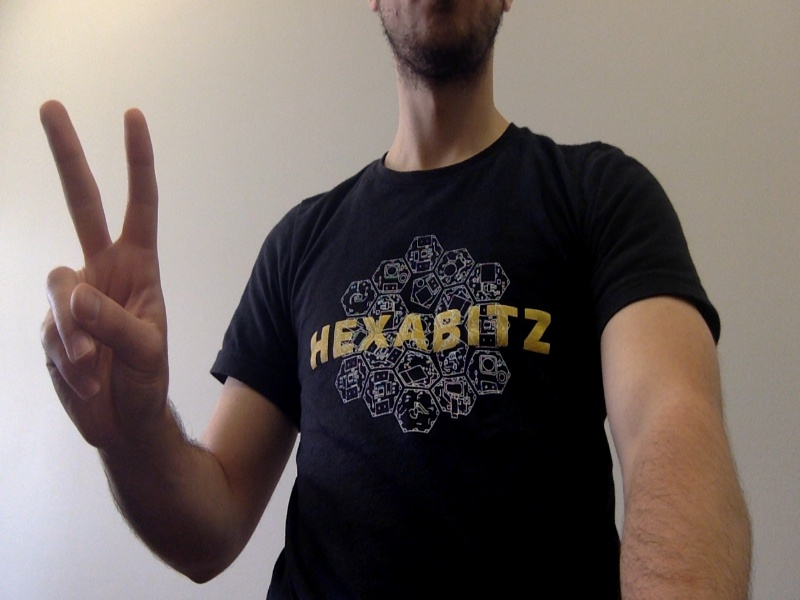2-hand: (35, 102, 166, 450)
